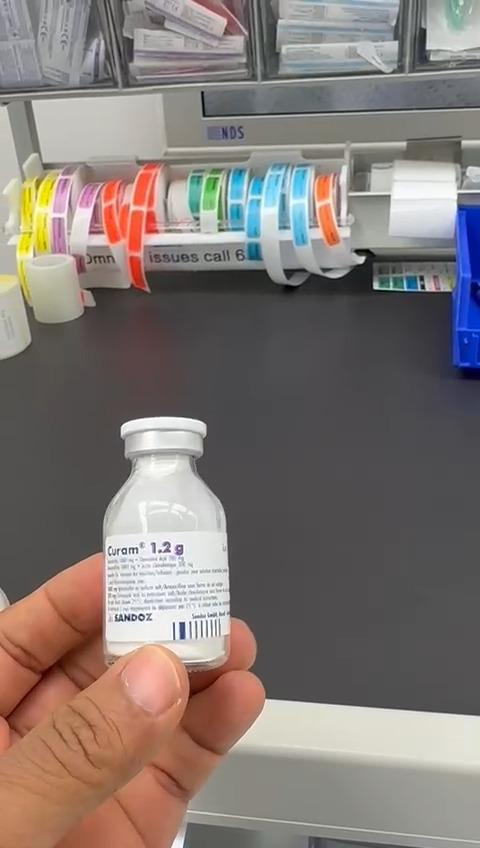augmentin: (103, 417, 230, 669)
